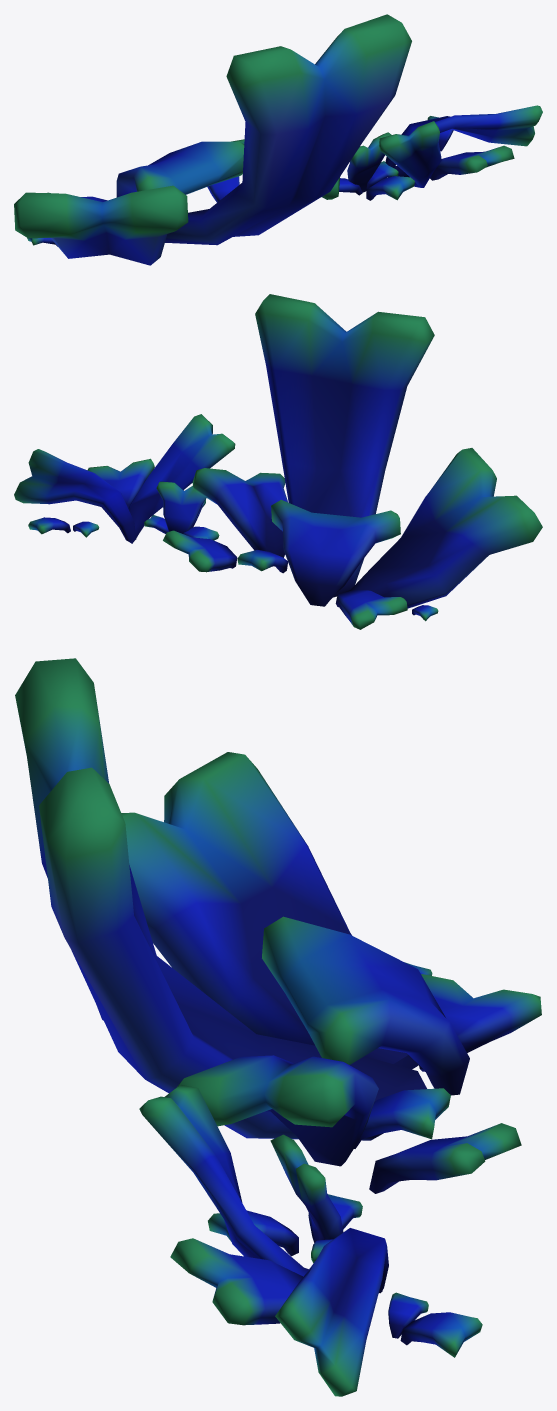
Rendered from Alien_Grass01.fbx.
3 renders of one model, top to bottom at view 1: azimuth 30°, elevation 25°; view 2: azimuth 150°, elevation 25°; view 3: azimuth 270°, elevation 25°, orthographic. The views are drawn at different scales.
Parts seen in each view (by area): view 1: Alien_Grass01; view 2: Alien_Grass01; view 3: Alien_Grass01.
Part boxes in pixels (x1=…): Alien_Grass01: x1=14, y1=14, x2=542, y2=265; Alien_Grass01: x1=14, y1=294, x2=542, y2=629; Alien_Grass01: x1=15, y1=658, x2=541, y2=1396.
Size of the model in its own units: 7346 by 3224 by 3396.
